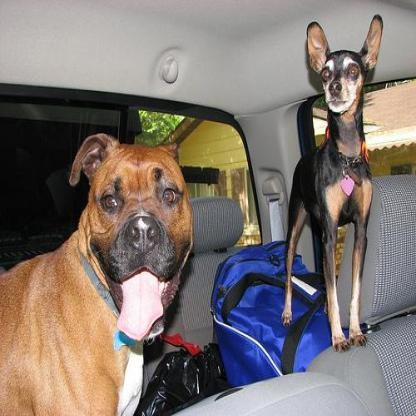miniature_pinscher: (280, 12, 384, 352)
